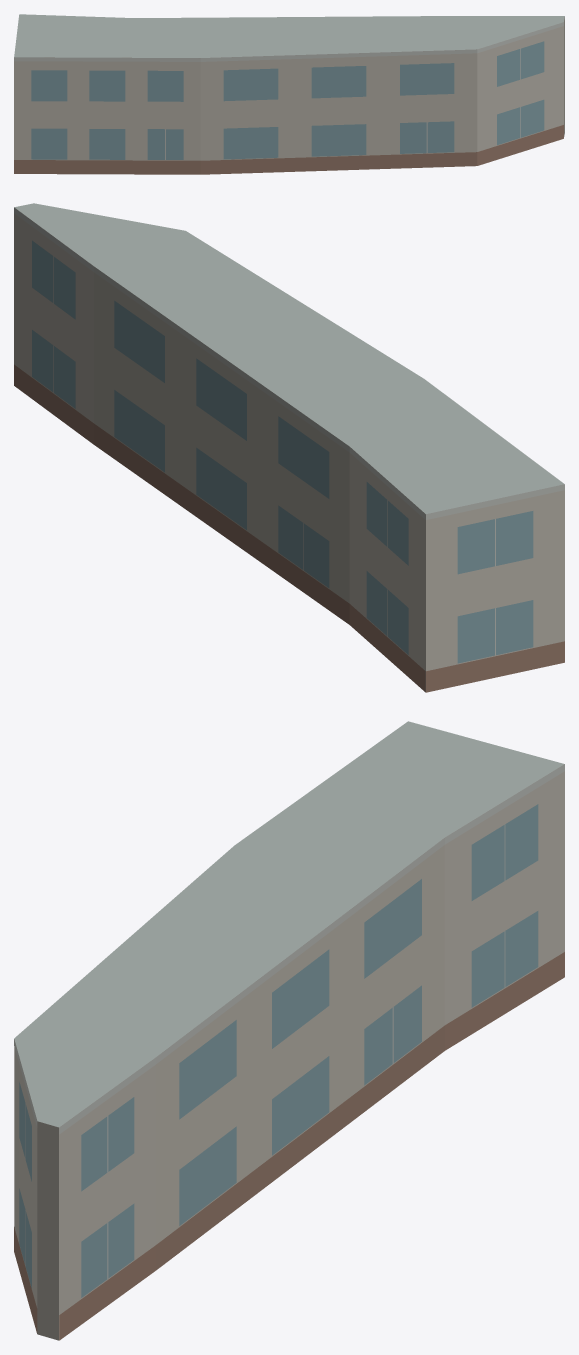
Rendered from survey-upis-33044843.glb.
The picture shows the model from 3 angles, top to bottom: view 1: azimuth 30°, elevation 25°; view 2: azimuth 150°, elevation 25°; view 3: azimuth 270°, elevation 25°; orthographic projection. The views are drawn at different scales.
Parts seen in each view (by area): view 1: survey-upis-33044843.tmp; view 2: survey-upis-33044843.tmp; view 3: survey-upis-33044843.tmp.
Part boxes in pixels (<box>): survey-upis-33044843.tmp: <box>14,14,564,174</box>; survey-upis-33044843.tmp: <box>14,203,564,692</box>; survey-upis-33044843.tmp: <box>14,721,564,1340</box>.
Bounding box in the file's own units: 29.84 × 7.3 × 17.1.
